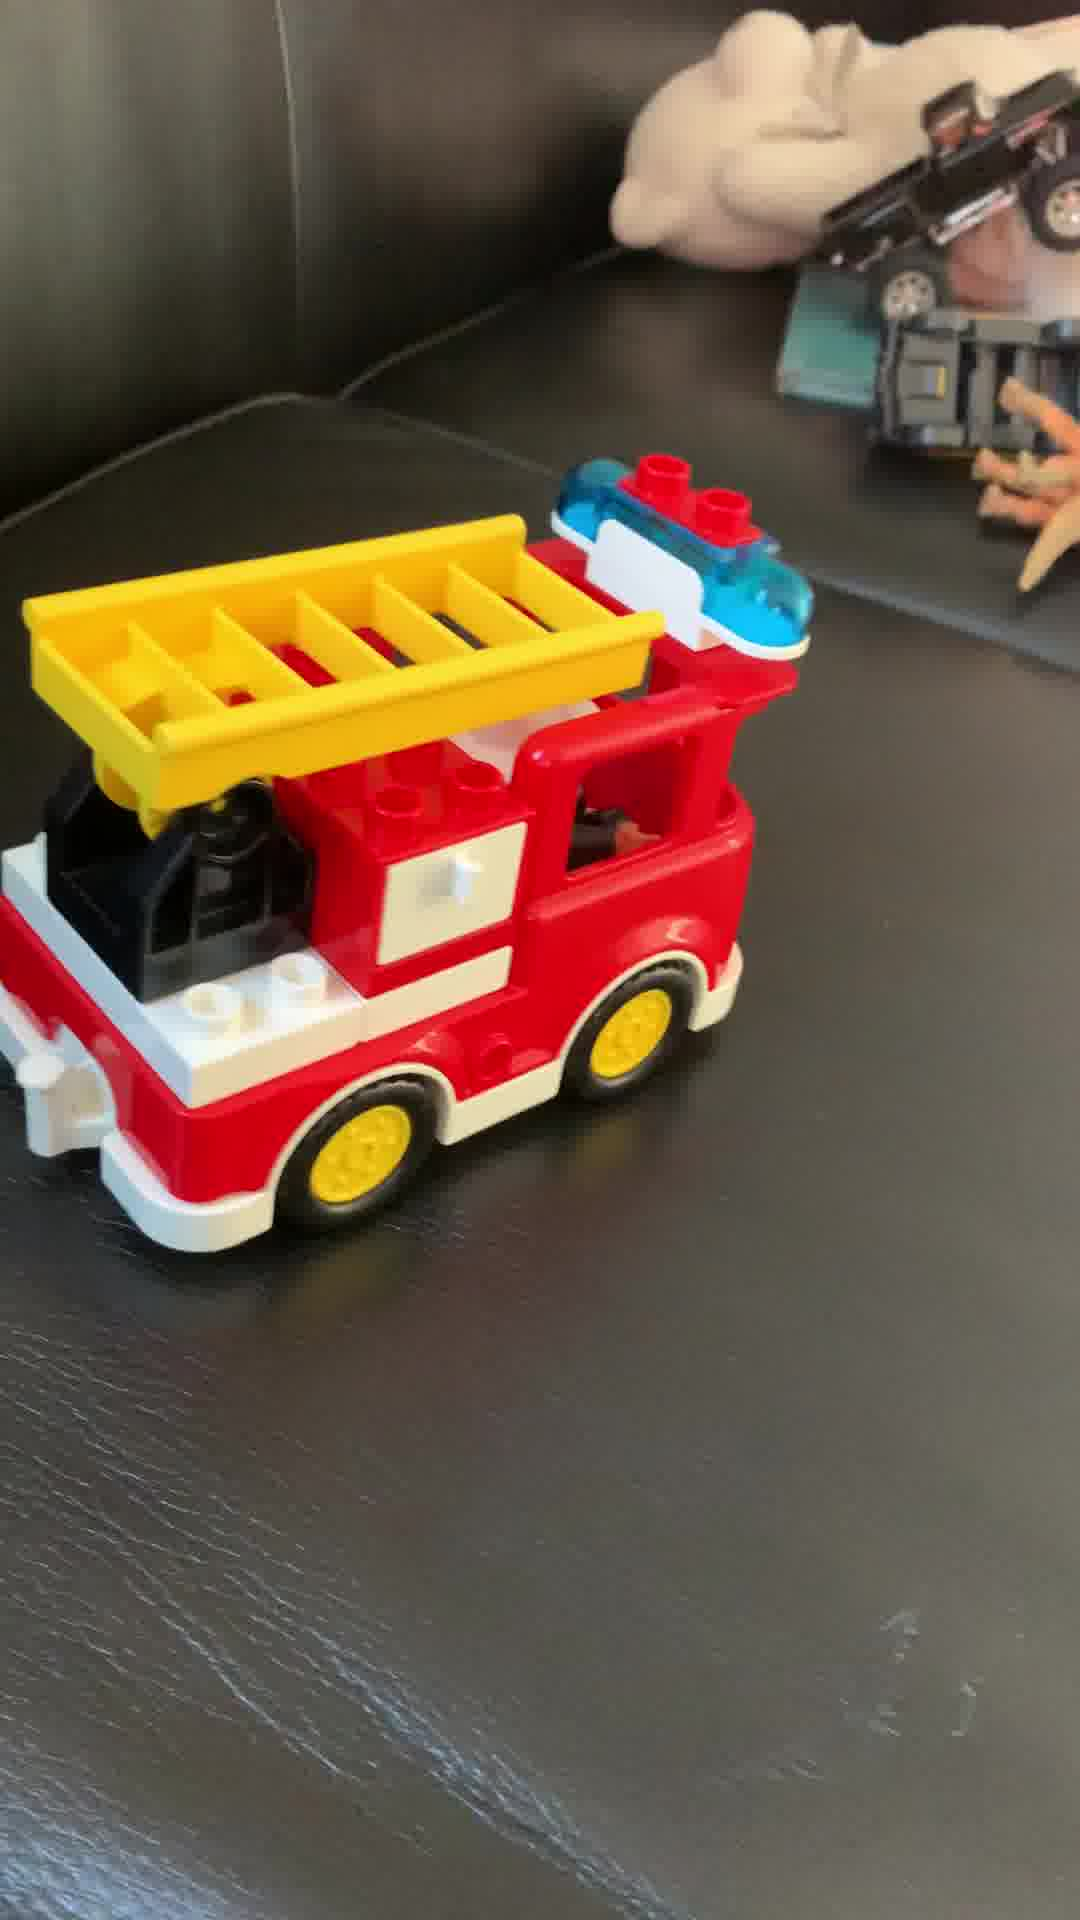lego fire truck: (1, 447, 822, 1269)
